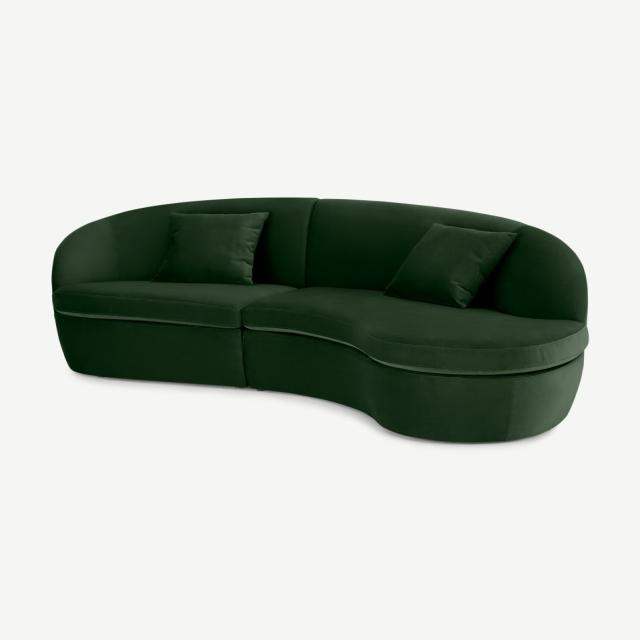Soffa: (51, 183, 592, 443)
